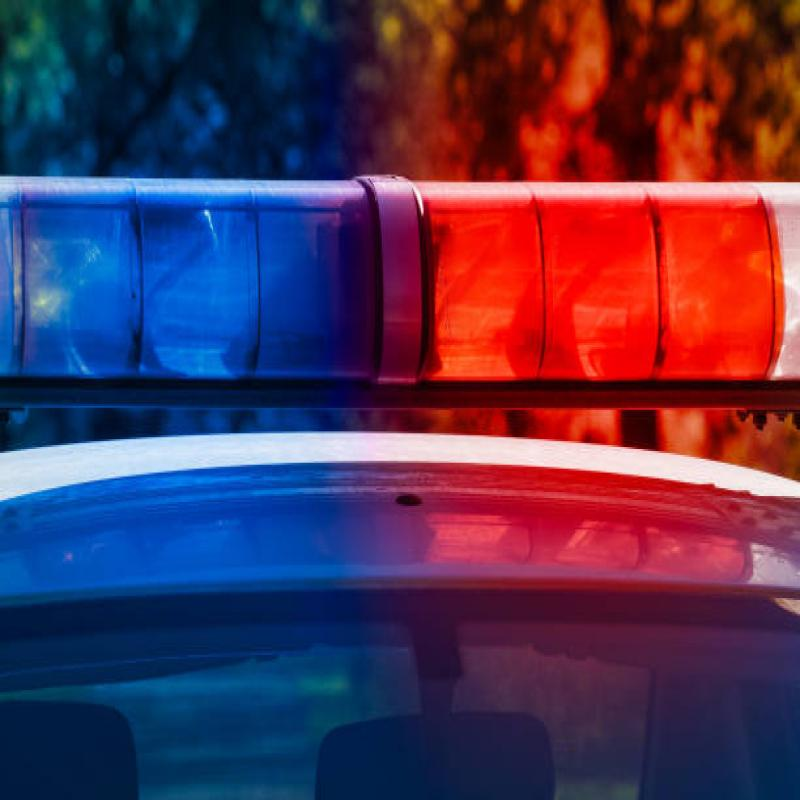AmbulanceSiren: (0, 107, 800, 427)
